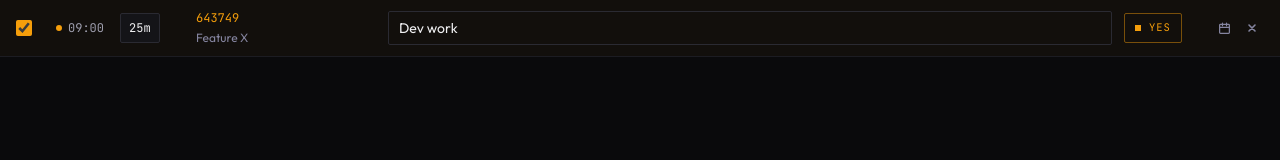
it: EntryRow — Comment and Billable › Enter commits the edited comment; Esc reverts without a write
Replace the text in the field named "Comment" with "Refactor". click: (750, 28)
box: [388, 11, 1112, 45]
Then press Enter
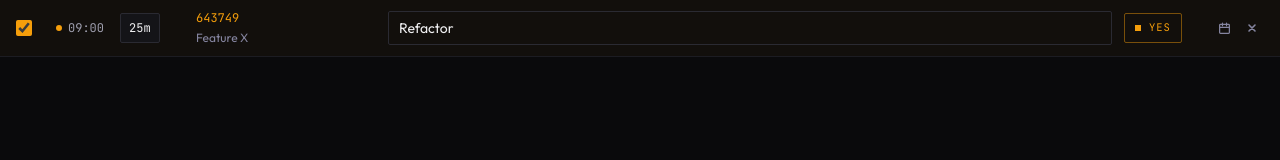
Type " more" into the field named "Comment". click: (750, 28)
box: [388, 11, 1112, 45]
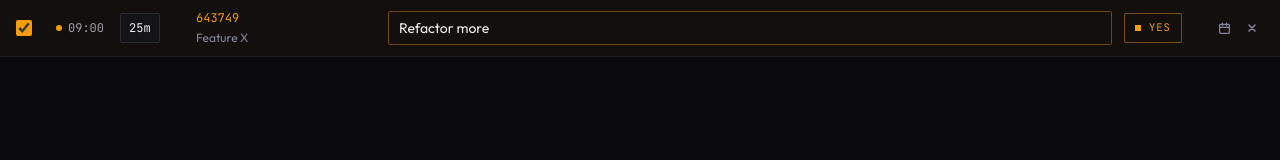
Press Escape
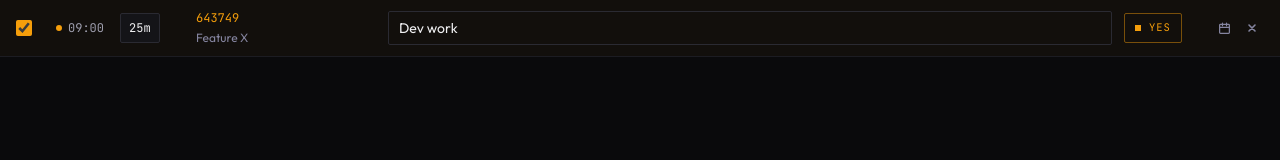
Expected: the field named "Comment" holds "Dev work", [388, 11, 1112, 45]
